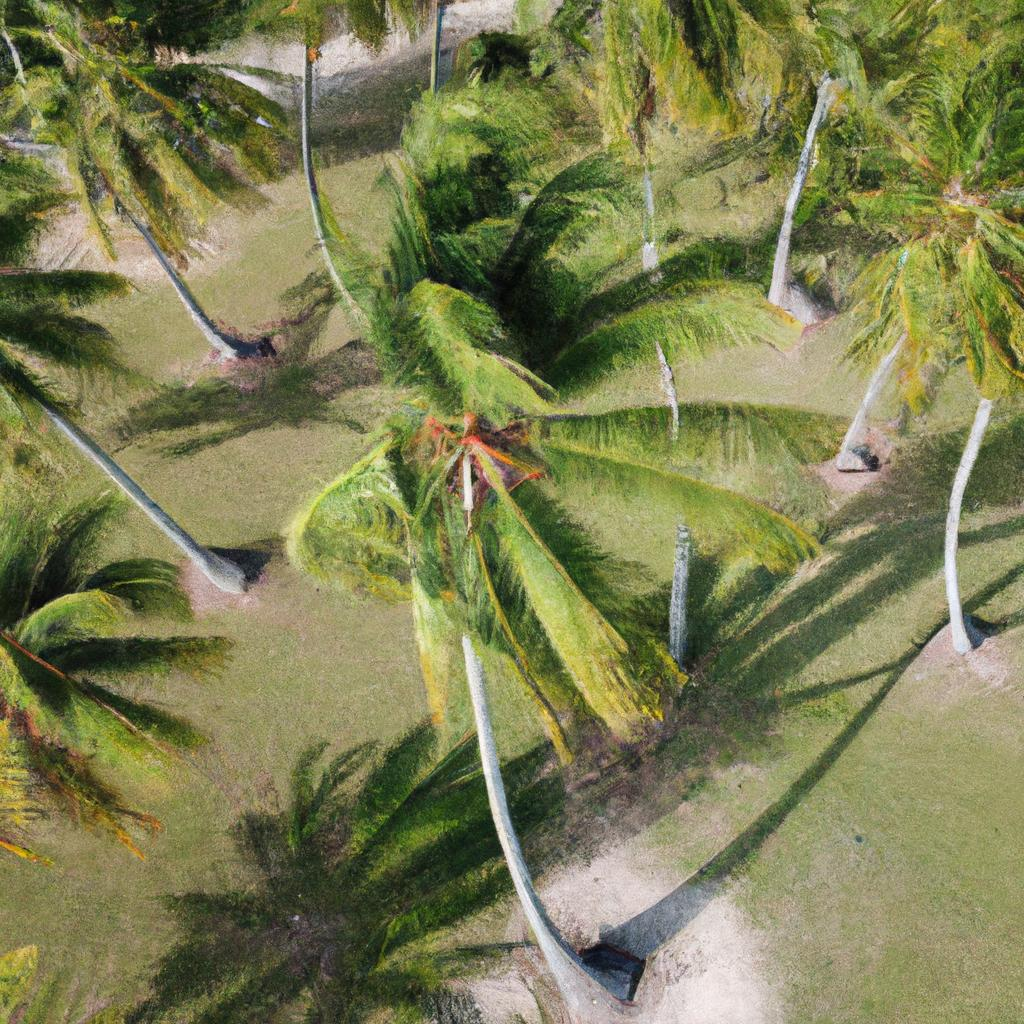coconut_tree: (247, 74, 869, 747)
